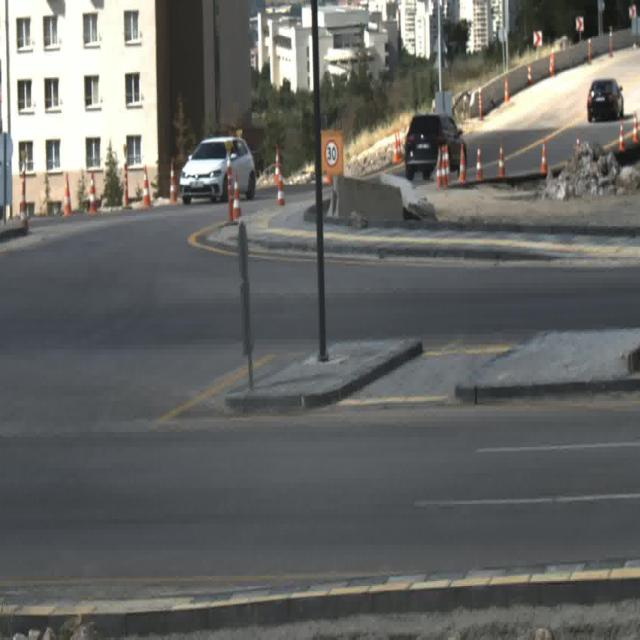Car: (180, 136, 254, 208), (405, 117, 468, 178), (587, 78, 625, 121)
